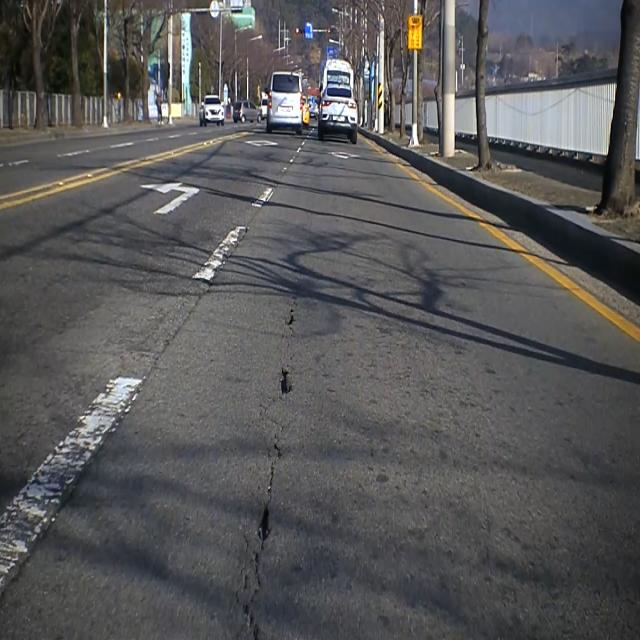Pothole: (238, 499, 277, 640), (270, 361, 295, 402), (279, 296, 302, 340)
